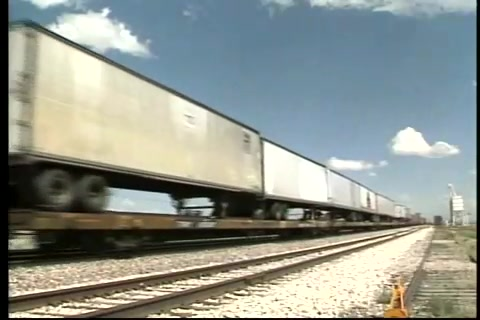train: (10, 17, 412, 253)
